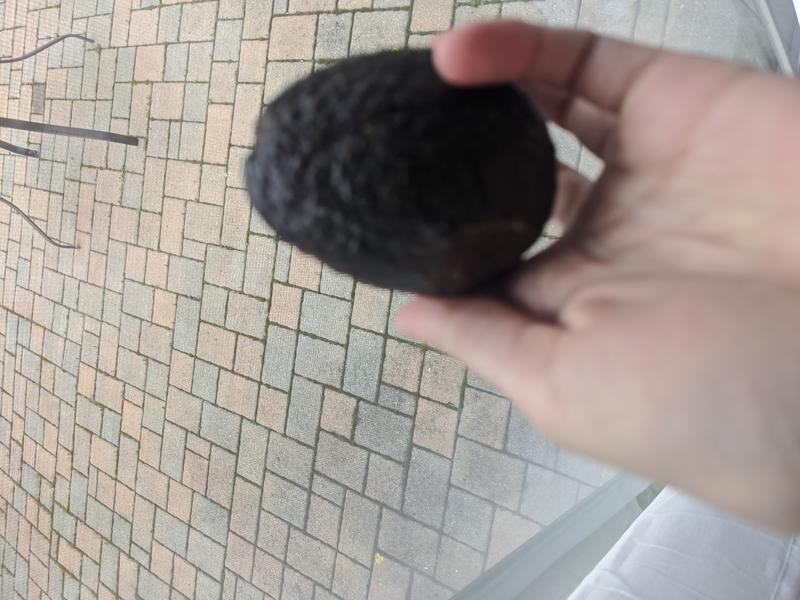avocado: (243, 49, 558, 298)
